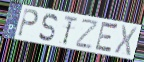E: (93, 20, 120, 56)
P: (16, 8, 40, 39)
S: (37, 13, 59, 43)
T: (61, 15, 79, 47)
X: (113, 24, 139, 57)
Z: (75, 19, 101, 51)
